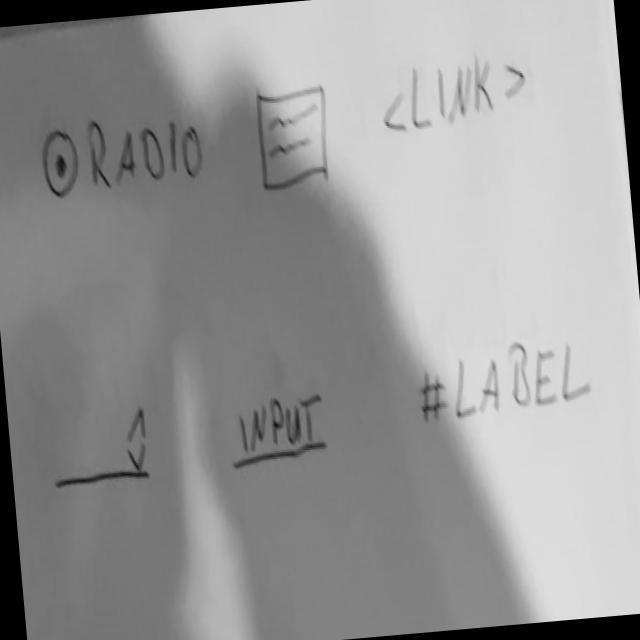input: (223, 384, 334, 476)
label: (411, 333, 597, 435)
link: (378, 45, 533, 143)
number-input: (42, 399, 155, 499)
radio: (40, 125, 82, 203)
textarea: (252, 83, 336, 198)
